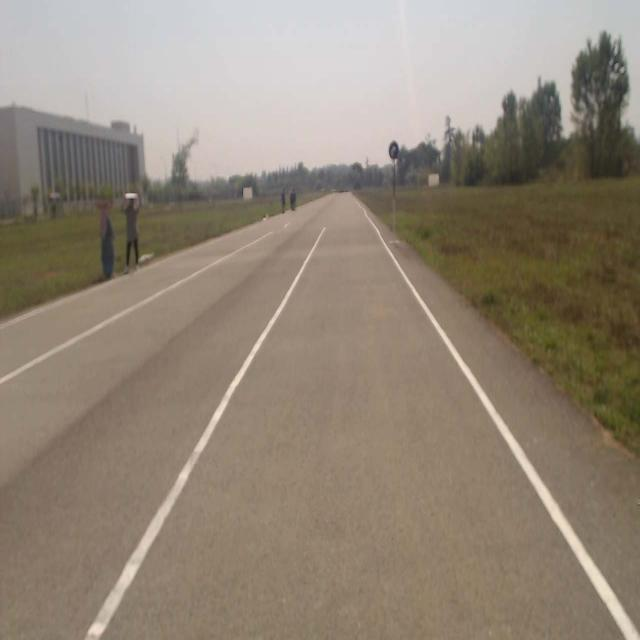sag: (389, 141, 399, 159)
